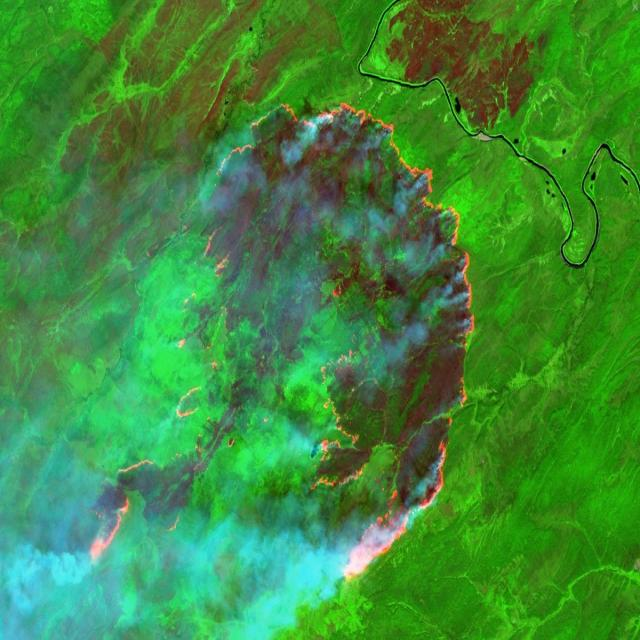fire: (78, 94, 481, 594)
